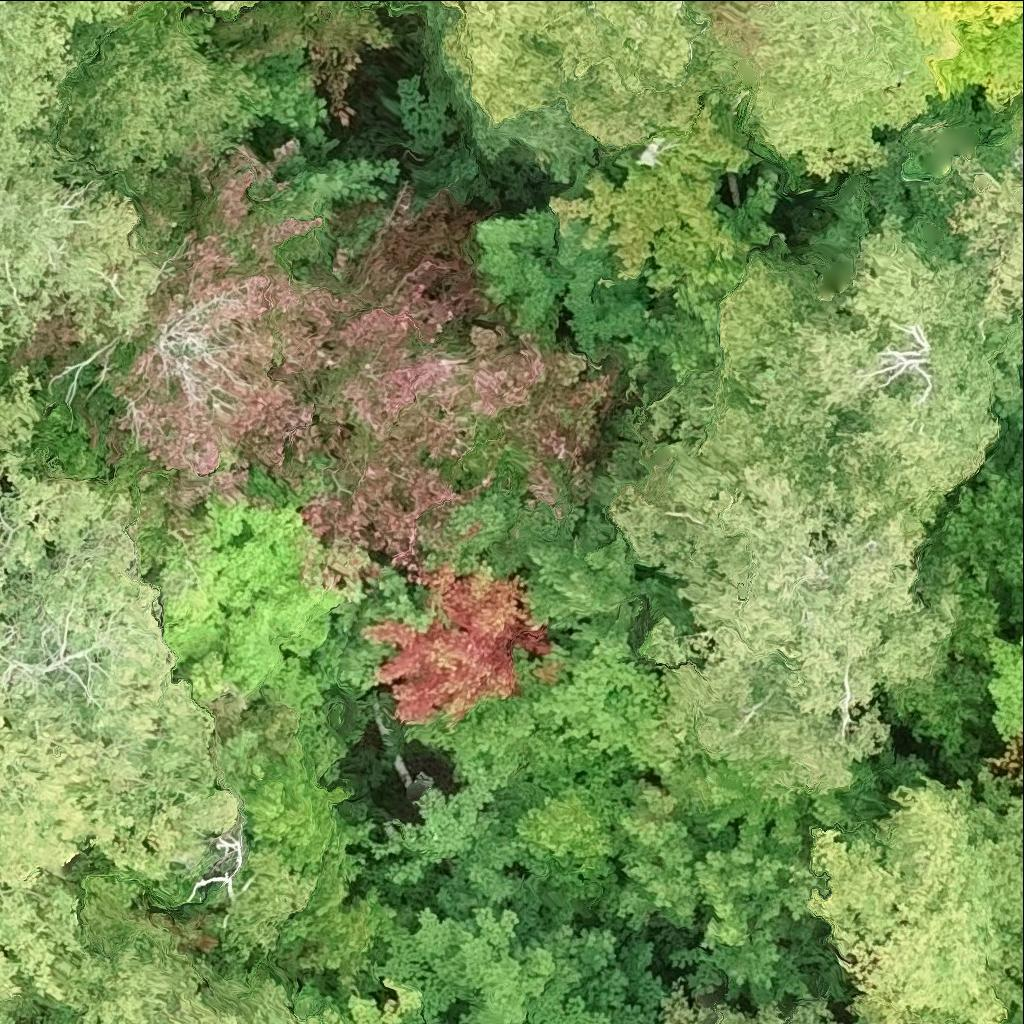crown: (113, 140, 486, 479), (610, 449, 954, 792), (0, 451, 240, 881), (696, 219, 1023, 511), (810, 772, 1023, 1023), (448, 0, 762, 149), (706, 0, 941, 181), (156, 497, 345, 698), (325, 308, 544, 468), (629, 797, 830, 951), (0, 159, 167, 344), (283, 419, 470, 579), (363, 564, 547, 720), (0, 0, 124, 170), (945, 112, 1023, 328), (238, 739, 349, 870), (897, 0, 1023, 114), (493, 349, 612, 469), (0, 862, 88, 1005), (67, 934, 204, 1023), (669, 930, 817, 1007), (511, 789, 621, 877), (656, 984, 838, 1023), (171, 977, 324, 1023), (200, 689, 297, 760), (216, 730, 289, 796), (0, 366, 41, 455), (993, 636, 1023, 737), (990, 962, 1023, 1023), (203, 0, 255, 17), (421, 0, 463, 13), (58, 1015, 86, 1023), (362, 0, 384, 6), (0, 334, 5, 352)
